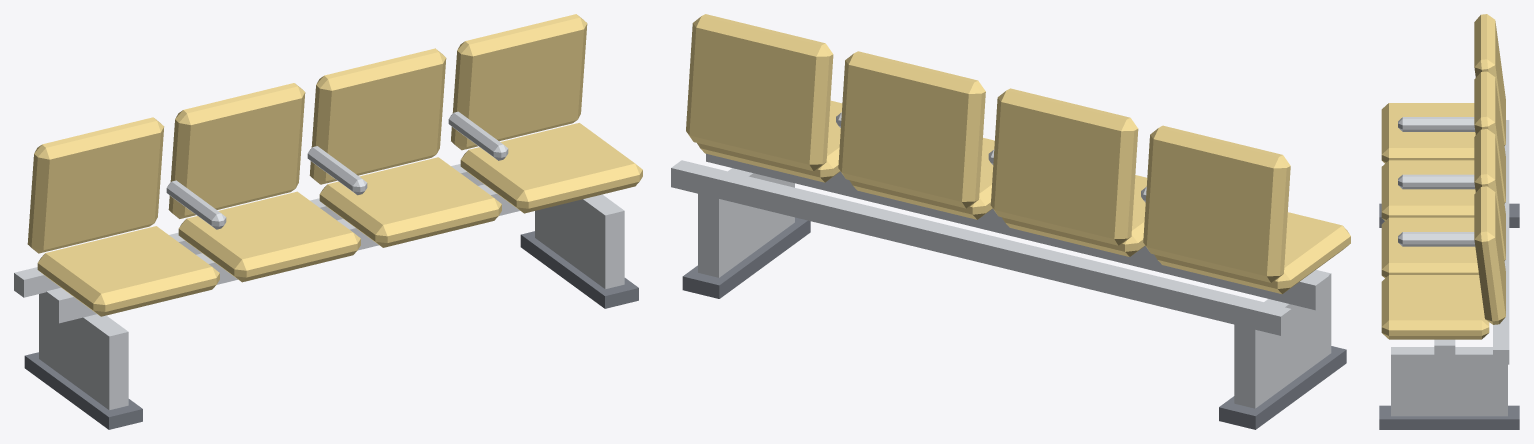
The model's file is medical-23630.glb.
3 renders of one model, left to right at view 1: azimuth 30°, elevation 25°; view 2: azimuth 150°, elevation 25°; view 3: azimuth 270°, elevation 25°, orthographic. The views are drawn at different scales.
Parts seen in each view (by area): view 1: waiting-bench-row-sun; view 2: waiting-bench-row-sun; view 3: waiting-bench-row-sun.
Part boxes in pixels (<box>): waiting-bench-row-sun: <box>14,14,642,429</box>; waiting-bench-row-sun: <box>671,14,1350,429</box>; waiting-bench-row-sun: <box>1379,14,1519,429</box>.
Bounding box in the file's own units: 2.32 × 0.9385 × 0.5999.
